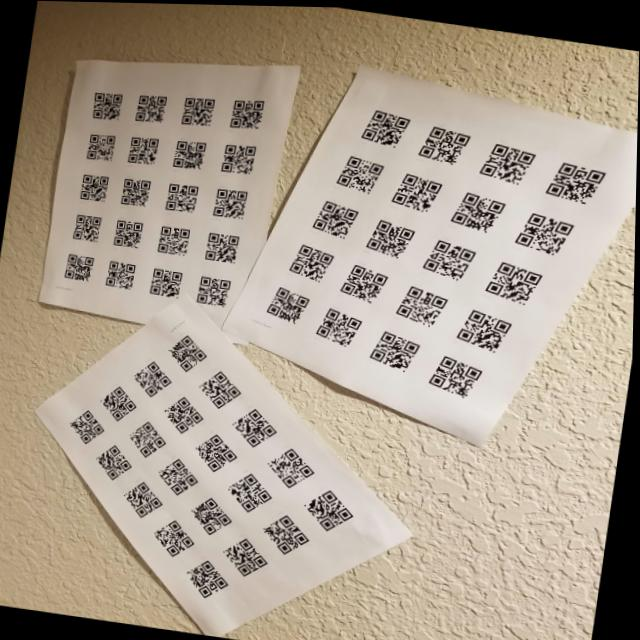QR_CODE: (422, 347, 497, 407), (480, 251, 549, 310), (541, 152, 612, 209), (511, 201, 579, 260), (362, 321, 428, 381), (450, 299, 517, 358), (444, 179, 511, 236), (258, 507, 331, 559), (388, 277, 455, 331), (417, 230, 480, 287), (475, 132, 539, 188), (298, 481, 363, 536), (327, 145, 392, 198), (412, 118, 476, 170), (263, 440, 322, 494), (189, 425, 250, 476), (218, 530, 279, 581), (309, 299, 366, 353), (335, 255, 393, 307), (354, 101, 415, 150), (305, 193, 363, 244), (181, 554, 241, 603), (386, 166, 447, 214), (224, 465, 280, 517), (362, 211, 419, 262), (257, 279, 314, 329), (226, 402, 283, 452), (127, 353, 183, 403), (188, 490, 242, 540), (194, 366, 250, 413), (160, 328, 214, 376), (159, 389, 209, 440), (154, 452, 207, 500), (150, 513, 200, 563), (93, 379, 145, 427), (284, 238, 338, 284), (122, 418, 178, 462), (61, 400, 112, 448), (120, 477, 171, 522), (98, 253, 147, 299), (197, 226, 249, 269), (92, 440, 140, 485), (155, 175, 205, 218), (165, 132, 213, 176), (214, 137, 263, 180), (191, 269, 238, 313), (221, 92, 269, 135), (173, 87, 218, 132), (204, 181, 252, 223), (81, 84, 130, 123), (143, 262, 190, 302), (75, 125, 120, 166), (152, 220, 196, 260), (128, 87, 171, 127), (65, 207, 108, 247), (106, 214, 150, 253), (116, 171, 157, 212), (57, 247, 99, 287), (124, 131, 166, 169), (73, 168, 115, 205)
